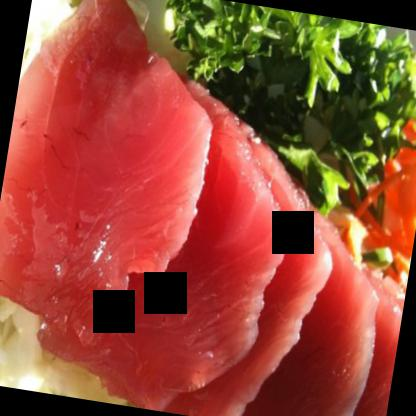tuna: (37, 64, 305, 415), (0, 0, 228, 357), (175, 149, 415, 415)
